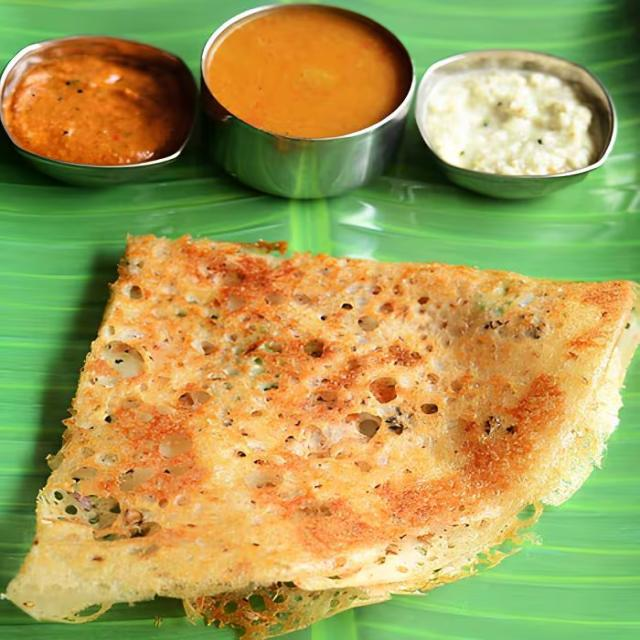DOSA: (1, 217, 639, 639)
RED CHUTNEY: (0, 22, 201, 171)
SAMBAR: (205, 1, 416, 177)
WHITE CHUTNEY: (417, 60, 606, 183)
